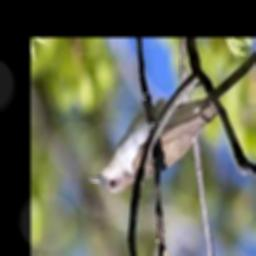Cuckoo: (89, 46, 256, 194)
